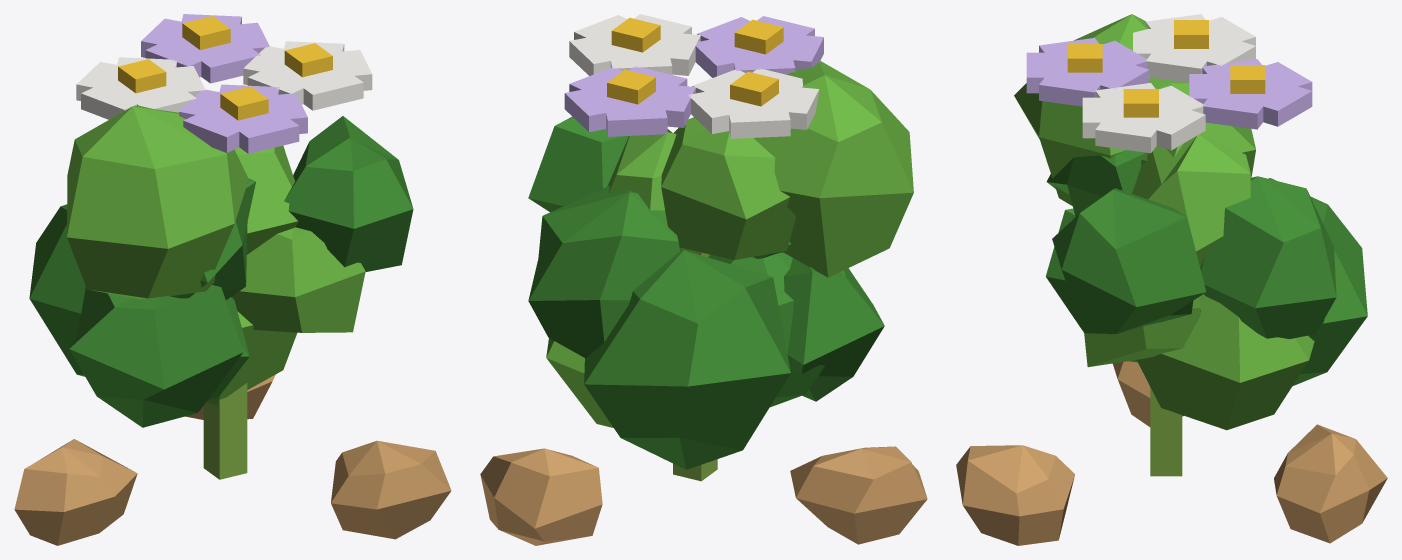
File: potato_4.obj
3 renders of one model, left to right at view 1: azimuth 30°, elevation 25°; view 2: azimuth 150°, elevation 25°; view 3: azimuth 270°, elevation 25°, orthographic. The views are drawn at different scales.
Parts seen in each view (by area): view 1: plant; view 2: plant; view 3: plant.
Part boxes in pixels (box(x1,y1,x2,y2)): plant: box(14, 14, 451, 545); plant: box(480, 14, 927, 545); plant: box(956, 14, 1387, 545).
Bounding box in the file's own units: 0.4169 × 0.4545 × 0.4055.
